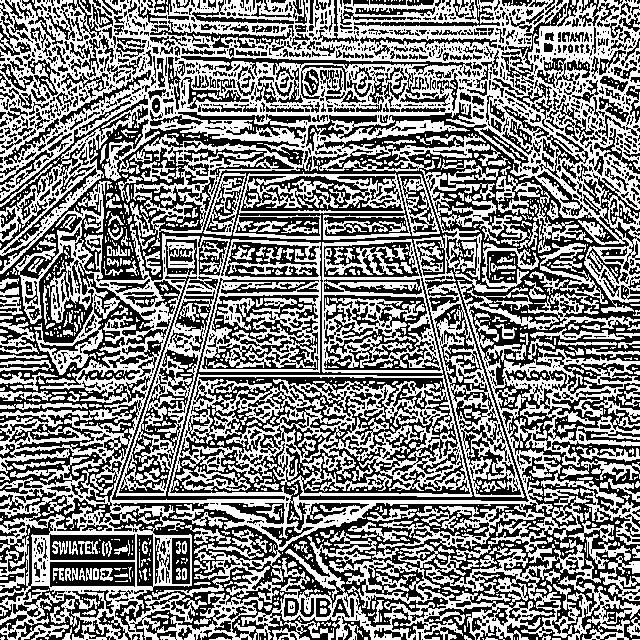left side: (113, 172, 248, 498), (396, 172, 527, 499)
player: (274, 428, 306, 548), (300, 116, 318, 174)
